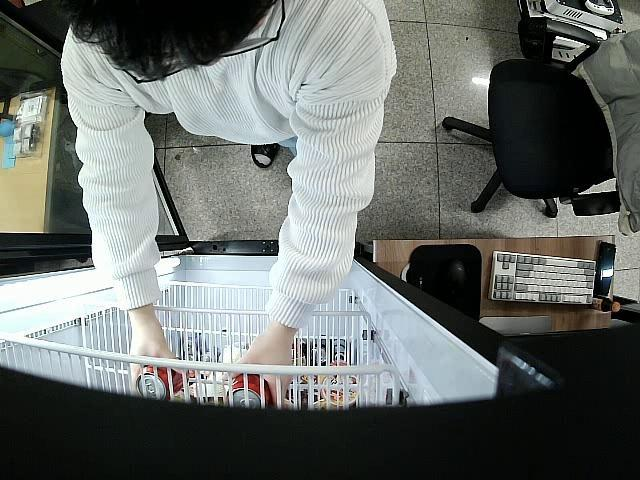11_cocaColaZero: (224, 372, 275, 407), (136, 362, 182, 398)
